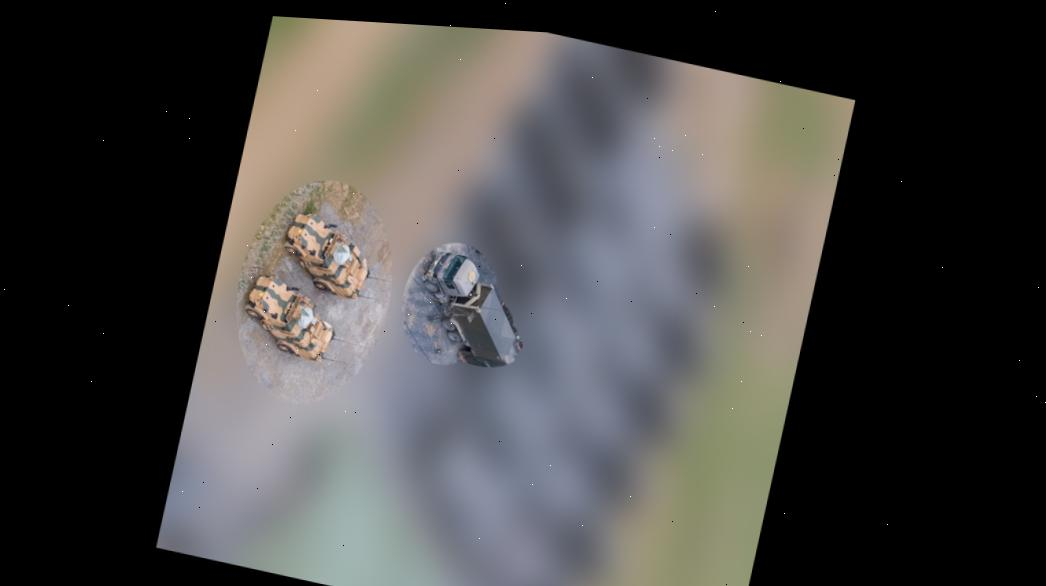armored_car: (272, 193, 389, 301), (233, 276, 353, 372)
truck: (400, 244, 534, 375)
